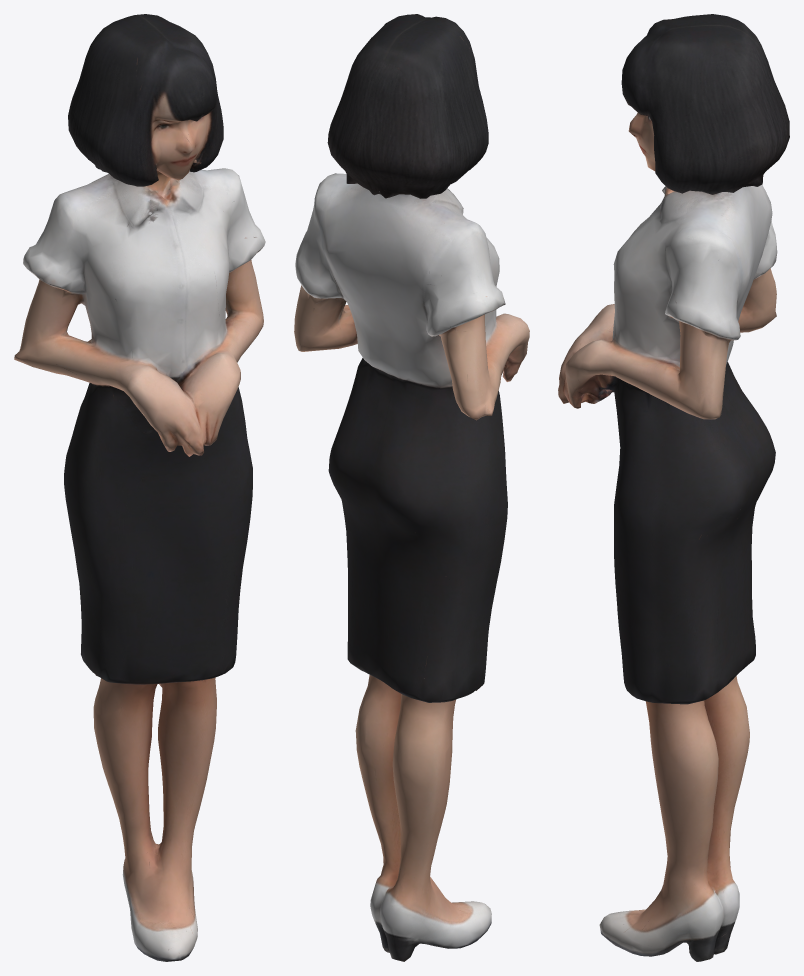
File: via3.glb
The picture shows the model from 3 angles, left to right: view 1: azimuth 30°, elevation 25°; view 2: azimuth 150°, elevation 25°; view 3: azimuth 270°, elevation 25°; orthographic projection. The views are drawn at different scales.
Visible parts, largest first — view 1: Mesh1.0; view 2: Mesh1.0; view 3: Mesh1.0.
Boxes of the visible parts, box(x1,y1,x2,y2) form: Mesh1.0: box(14, 14, 265, 961); Mesh1.0: box(294, 14, 529, 961); Mesh1.0: box(558, 14, 789, 961).
Size of the model in its own units: 0.509 by 2.01 by 0.4551.
1 material, 1 textured.
